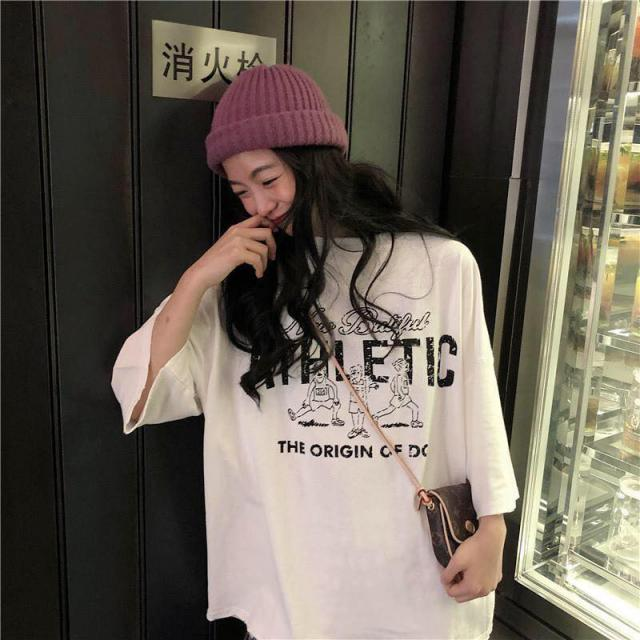Shirt: (112, 219, 520, 629)
